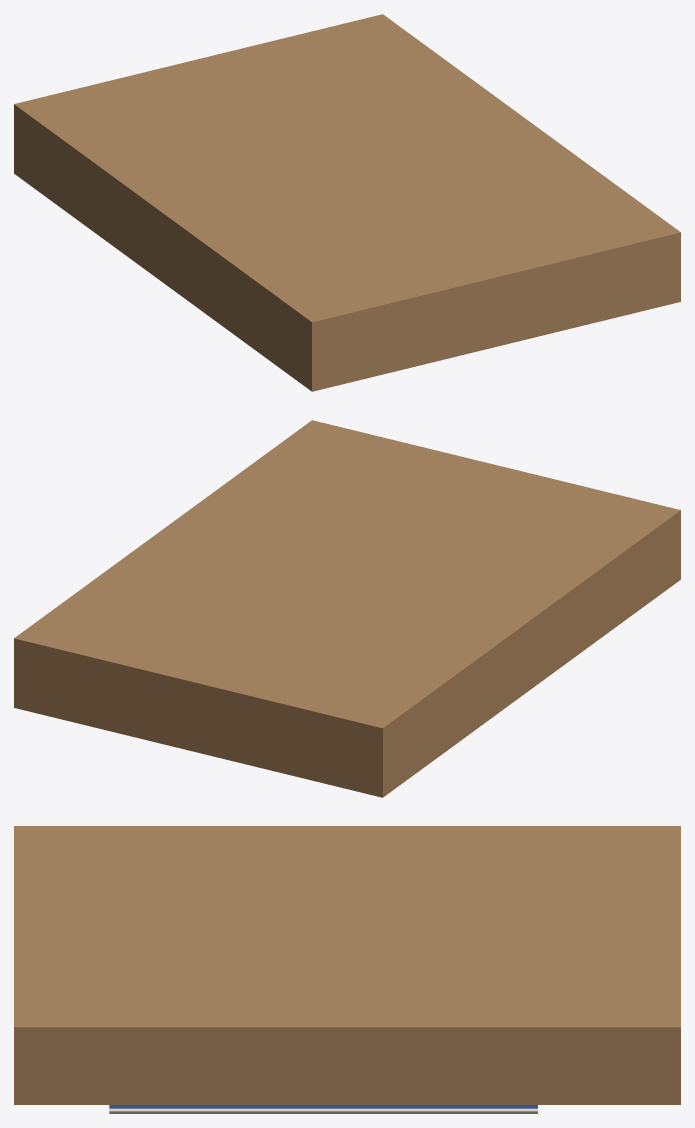
File: loom_station.glb
3 renders of one model, top to bottom at view 1: azimuth 30°, elevation 25°; view 2: azimuth 150°, elevation 25°; view 3: azimuth 270°, elevation 25°, orthographic. The views are drawn at different scales.
Parts seen in each view (by area): view 1: frame; view 2: frame; view 3: frame, thread_4, cloth.
Boxes of the visible parts, x1,y1,x2,y2 form: frame: [14, 14, 680, 391]; frame: [14, 420, 680, 797]; frame: [14, 826, 680, 1104]; thread_4: [109, 1108, 537, 1113]; cloth: [109, 1105, 537, 1108].
Size of the model in its own units: 1 by 0.2595 by 1.4.
